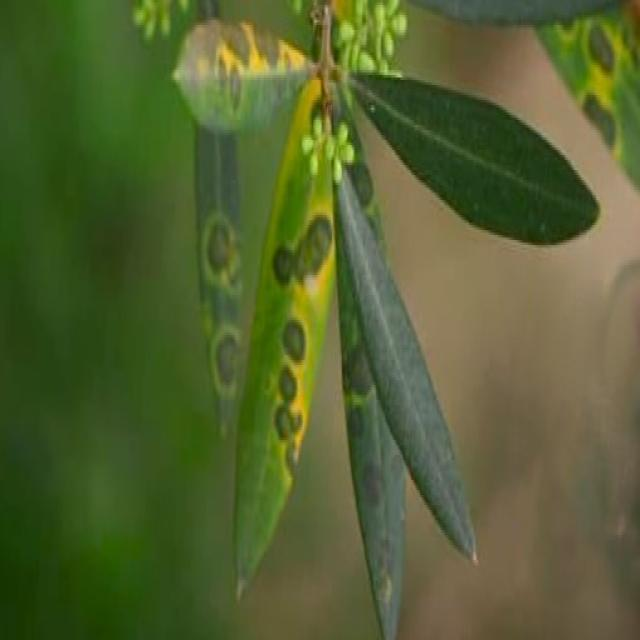OlivePeacockSpot: (232, 80, 330, 598), (172, 20, 314, 130), (198, 125, 236, 435)
